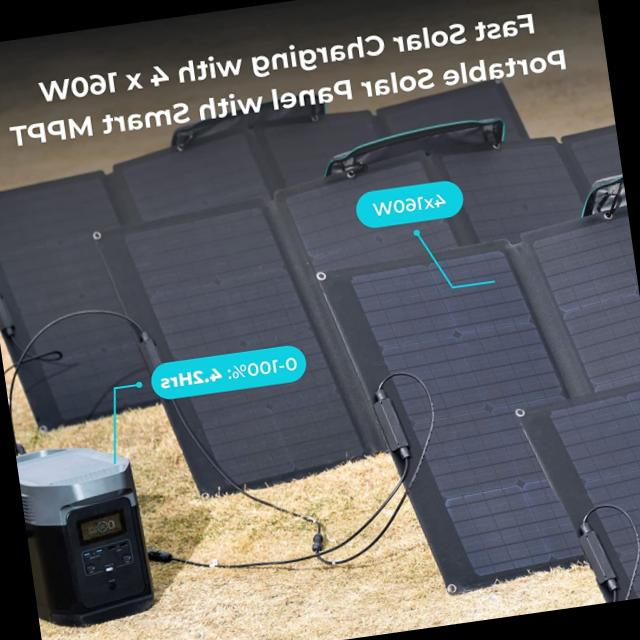no faulty: (105, 122, 626, 494), (329, 209, 640, 598)
